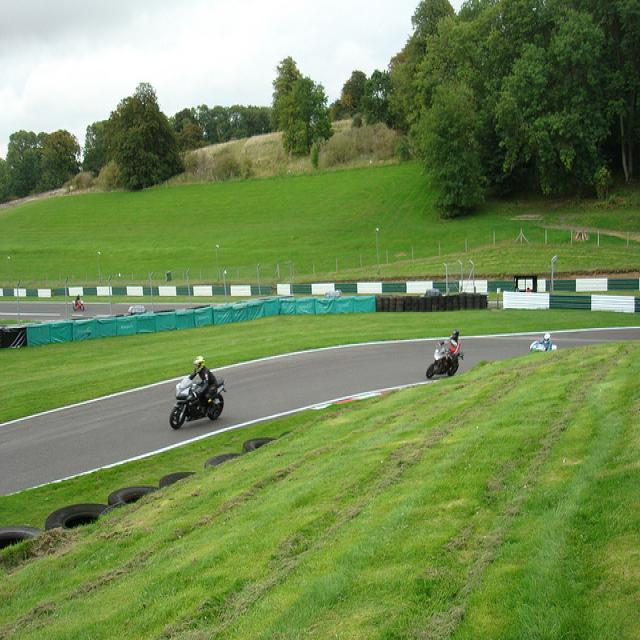motor: (168, 376, 228, 428), (426, 340, 452, 378), (448, 353, 465, 376), (529, 341, 558, 352), (72, 300, 84, 310)
